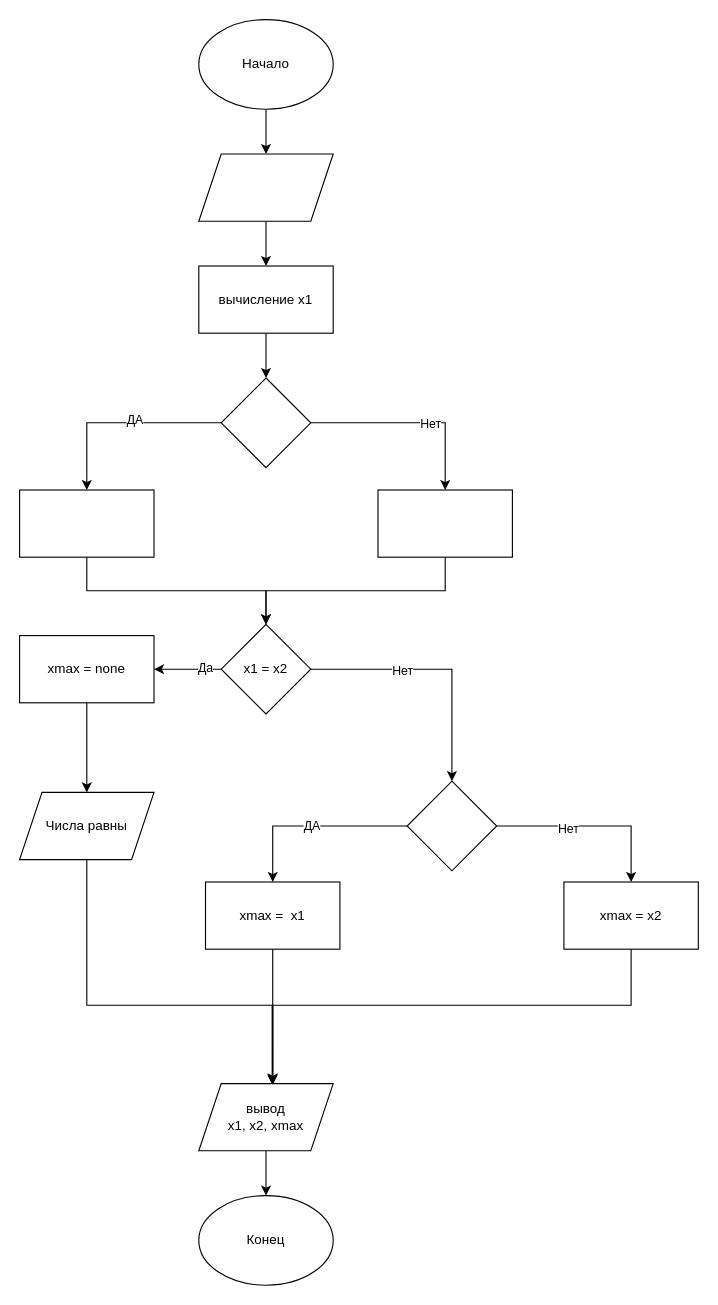
The diagram is 718 pixels wide and 1305 high, and some of its shapes have lost their labels. The shapes that lost their labels are listed below. From the top down, each one's box as (x1, y1, x2, y2) in pixels, then its label:
(198, 153, 333, 221): Ввод
(220, 377, 311, 468): x1 > = 0
(18, 489, 154, 557): x2 = sqrt(x1)
(377, 489, 512, 557): x2 = abs(x1)
(406, 780, 497, 871): x1 > x2
